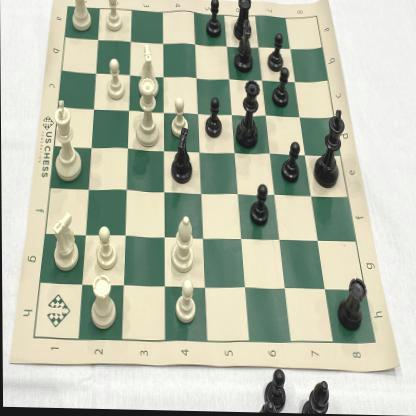black-king: (314, 105, 346, 191)
black-knight: (168, 127, 197, 187), (234, 20, 252, 74)
black-pawn: (279, 140, 302, 186), (202, 97, 223, 141), (249, 183, 269, 228), (270, 66, 290, 110), (204, 0, 224, 41), (266, 31, 284, 72)
black-queen: (234, 78, 262, 155)
black-rook: (335, 272, 367, 334), (233, 0, 254, 44)
white-bishop: (168, 215, 196, 276)
white-king: (50, 98, 84, 186)
white-knight: (46, 210, 82, 276), (136, 43, 160, 100)
white-pawn: (171, 277, 198, 329), (104, 58, 128, 104), (95, 224, 117, 272), (168, 92, 189, 140), (102, 0, 124, 36)
white-queen: (134, 79, 162, 152)
white-rook: (87, 274, 118, 333), (68, 0, 93, 35)
